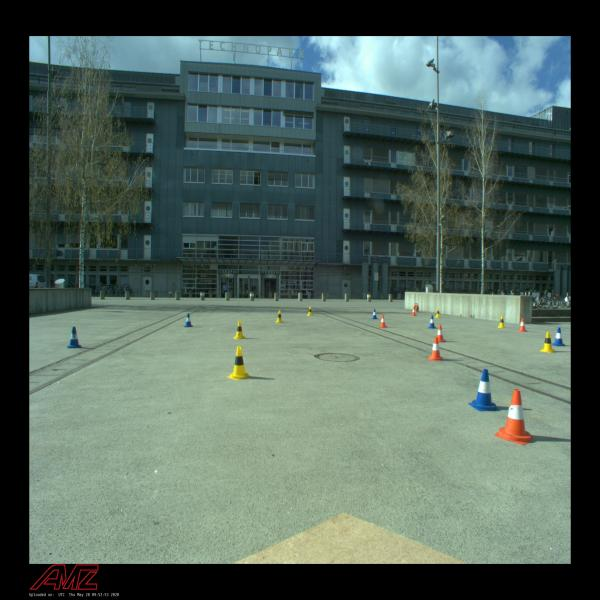blue_cone: (468, 368, 500, 412), (66, 326, 82, 348), (551, 327, 567, 347), (184, 314, 193, 328), (428, 315, 436, 329), (371, 309, 378, 320)
orange_cone: (494, 390, 534, 445), (428, 337, 443, 361), (434, 325, 446, 343), (518, 318, 527, 332), (379, 315, 387, 328), (411, 307, 417, 316)
yellow_cone: (227, 346, 251, 380), (540, 332, 556, 353), (233, 321, 246, 339), (497, 315, 506, 328), (276, 310, 284, 323), (307, 306, 313, 316), (435, 308, 441, 318)
